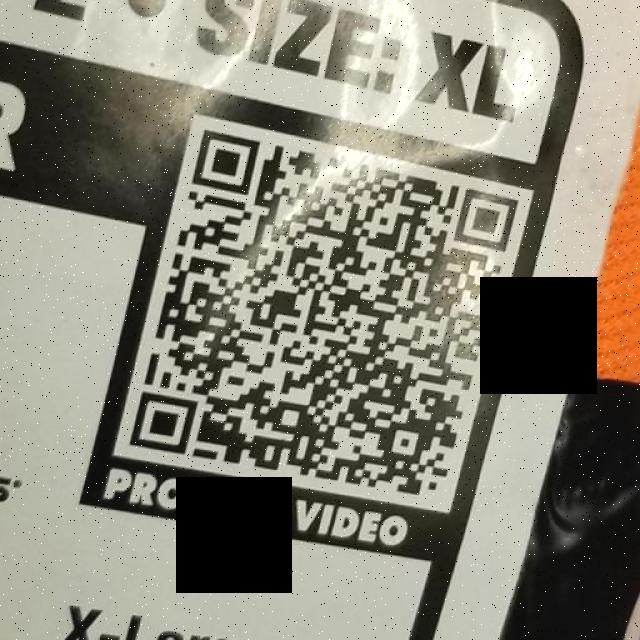QR_CODE: (118, 115, 530, 510)
